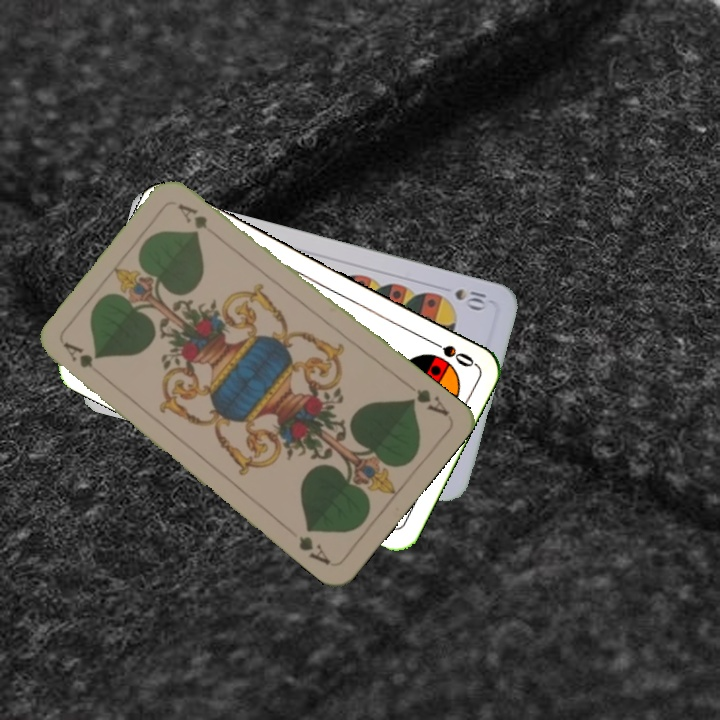GA: (404, 384, 452, 420), (59, 338, 96, 371)
S10: (450, 284, 489, 313)
SO: (422, 334, 477, 370)
